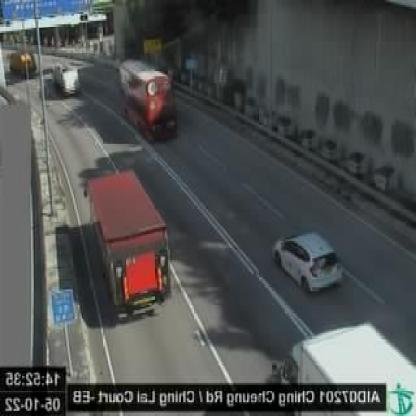Bus: (121, 55, 178, 144)
Car: (274, 231, 346, 296), (53, 61, 83, 94)
Truck: (87, 172, 174, 317)
